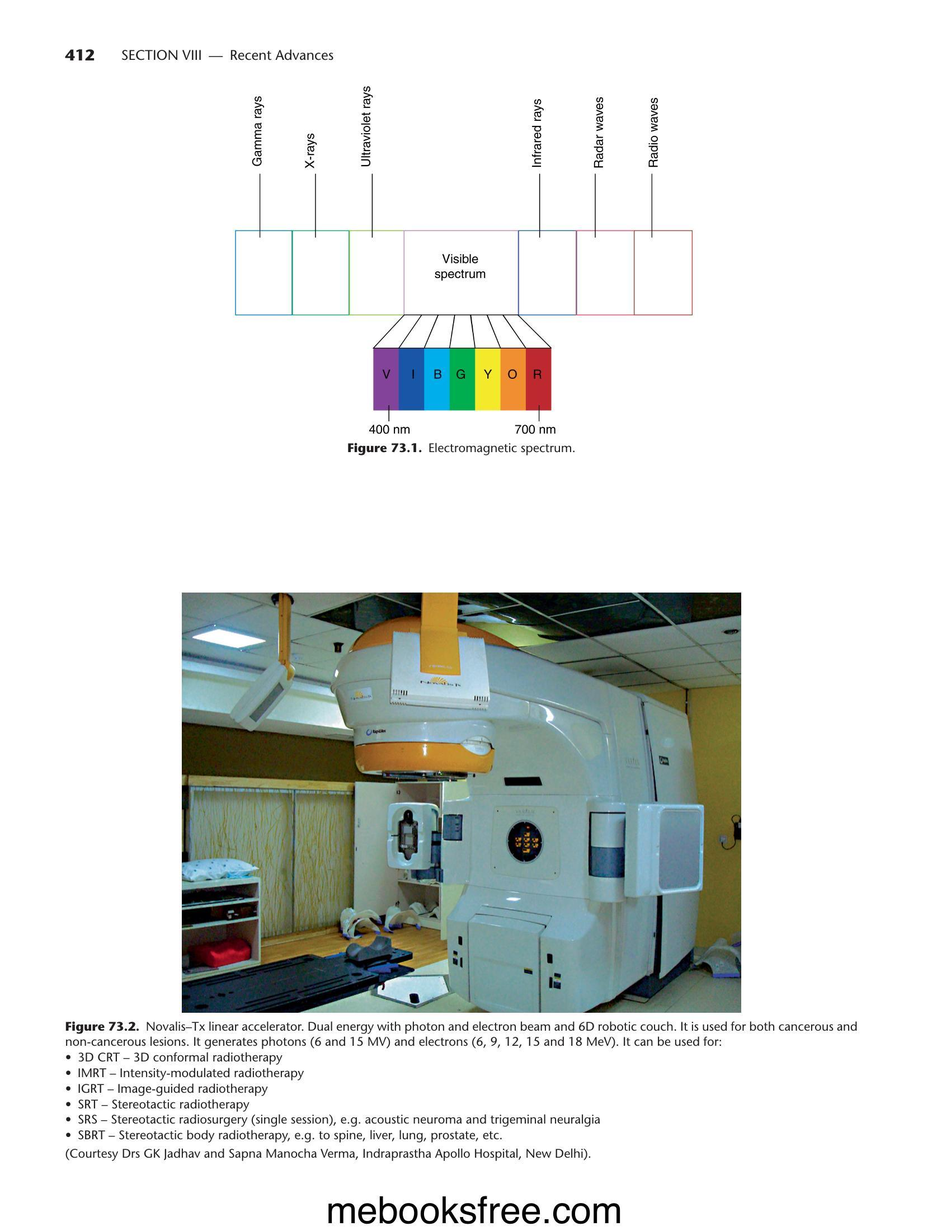caption: (63, 1018, 859, 1162), (347, 441, 576, 456)
header: (120, 48, 334, 62)
image: (181, 591, 741, 1010), (200, 66, 728, 438)
list: (64, 1051, 601, 1144)
